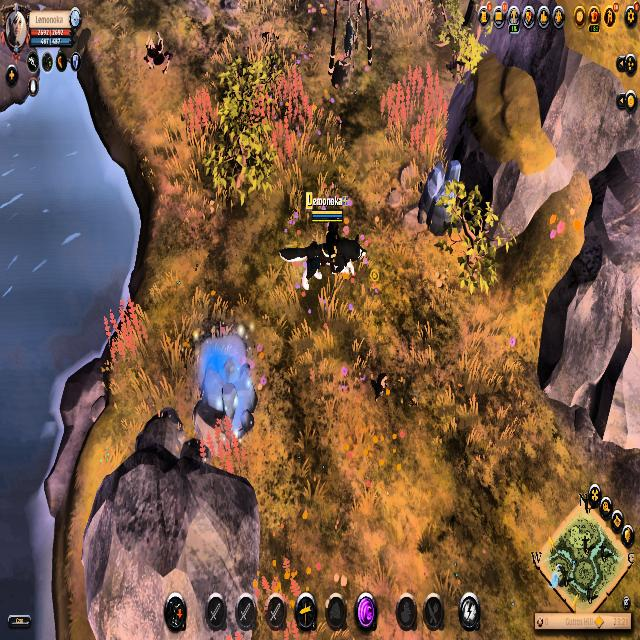rock tier 4: (194, 341, 258, 447), (418, 159, 468, 234)
